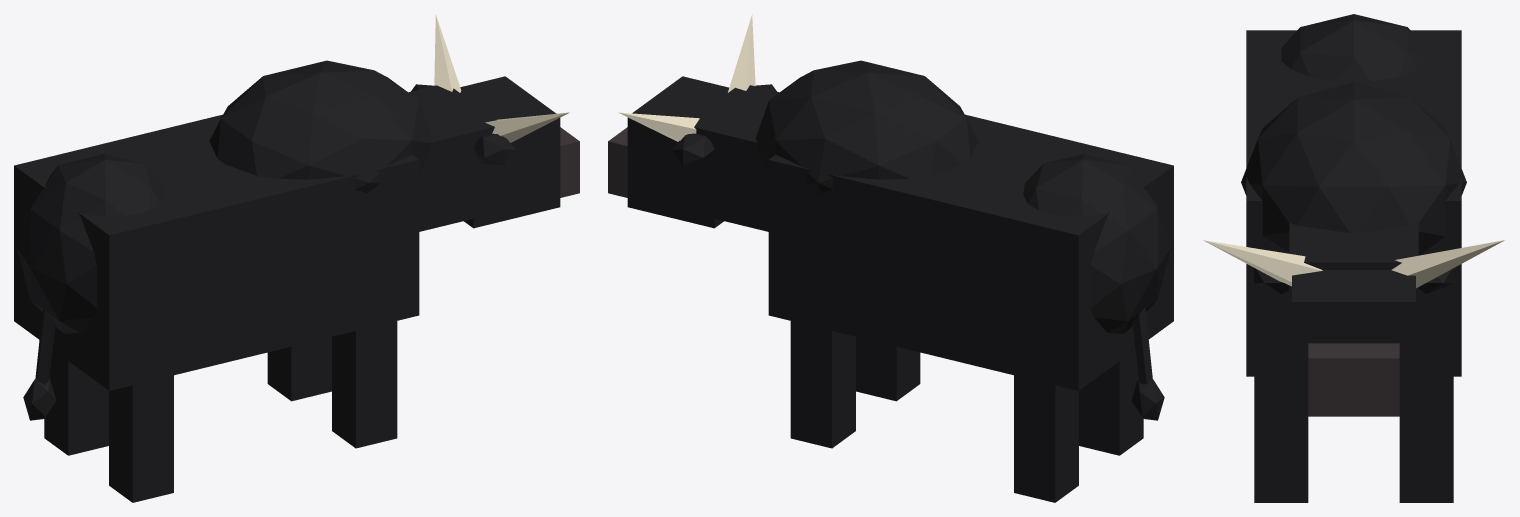
Rendered from Bull.glb.
The picture shows the model from 3 angles, left to right: view 1: azimuth 30°, elevation 25°; view 2: azimuth 150°, elevation 25°; view 3: azimuth 270°, elevation 25°; orthographic projection. The views are drawn at different scales.
Visible parts, largest first — view 1: Bull; view 2: Bull; view 3: Bull.
Boxes of the visible parts, x1,y1,x2,y2 form: Bull: (14, 14, 579, 502); Bull: (608, 14, 1173, 502); Bull: (1203, 14, 1504, 502).
Bounding box in the file's own units: 33.47 × 20.54 × 14.66.
